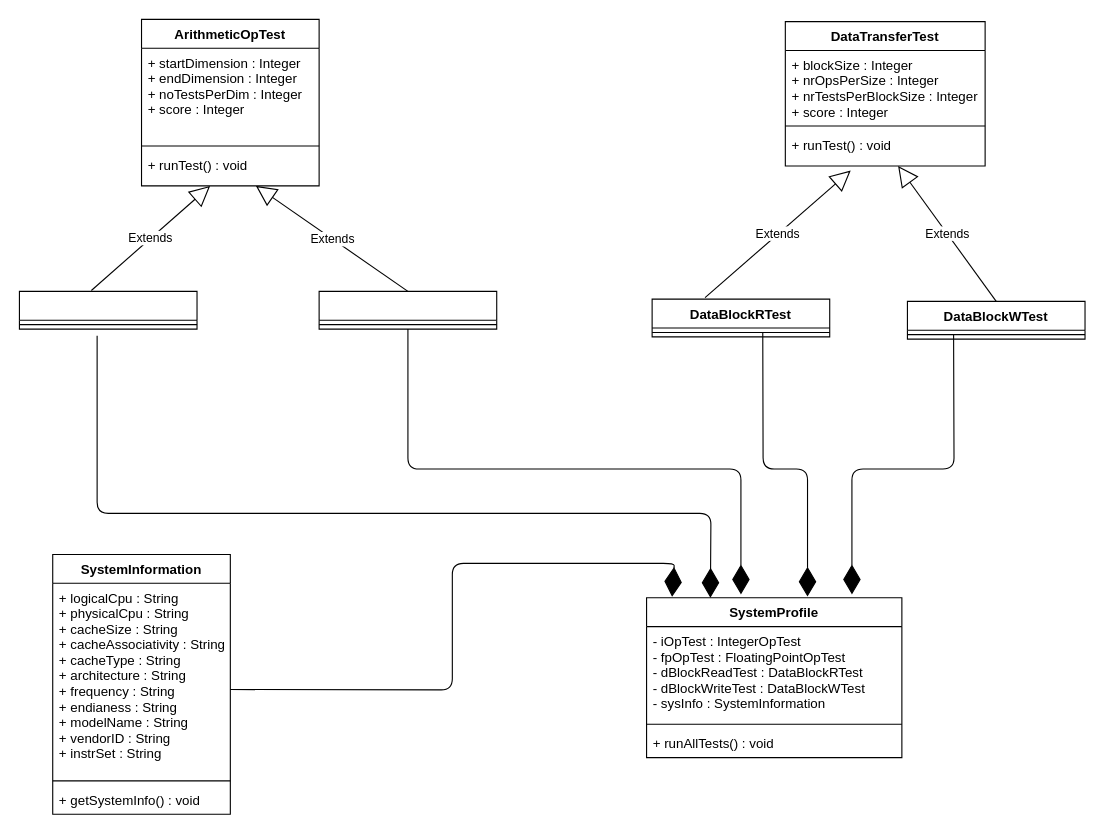
The diagram is 1104 pixels wide and 837 high, and some of its shapes have lost their labels. The centre of each missing label's shape, as x and y in pixels:
"FloatingPointOpTest" goes at pixel 407 309.
"IntegerOpTest" goes at pixel 107 309.
